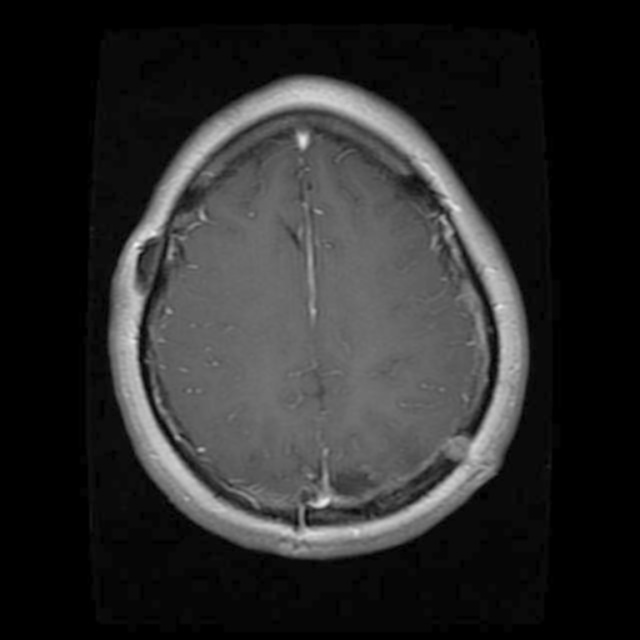pituitary tumor: (442, 430, 468, 460)
